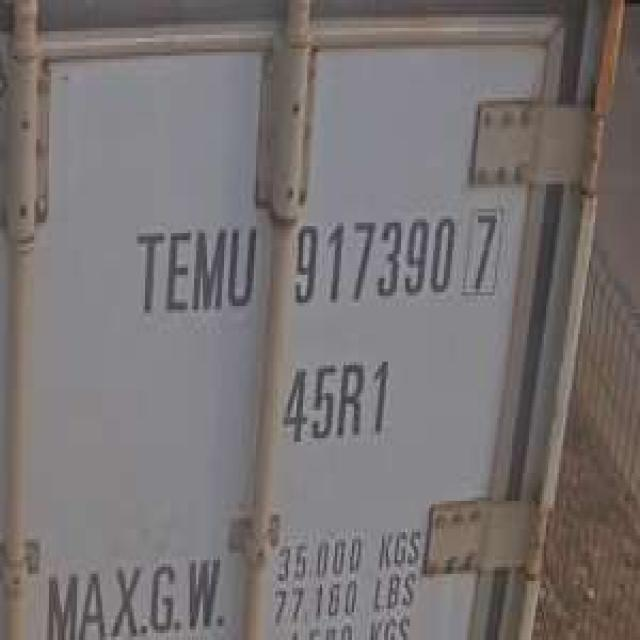dv: (461, 206, 503, 303)
owner: (128, 224, 262, 322)
serial: (292, 212, 454, 310)
size: (282, 351, 391, 447)
